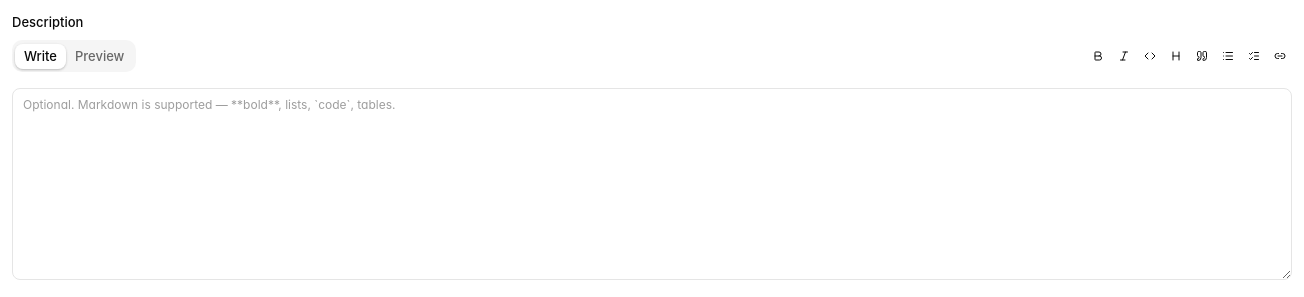
Test: MarkdownField preview › says so when there is nothing to preview, rather than showing an empty box
Press the mouse on the tab "Preview" at (100, 56), box [66,44,133,68]
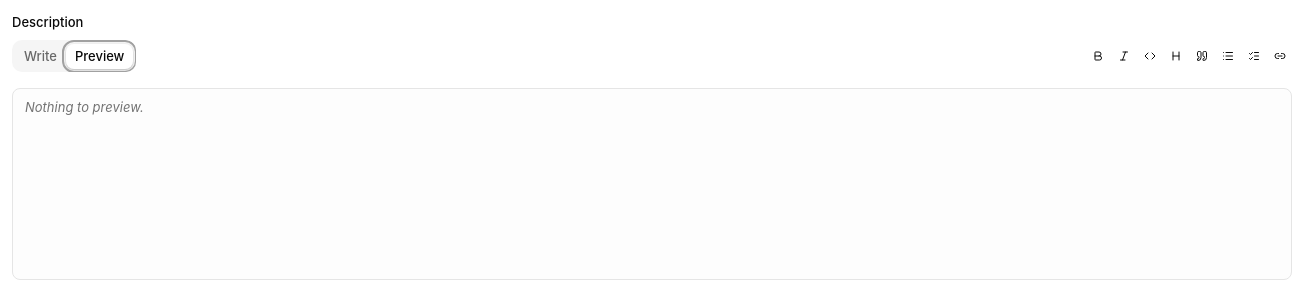
Check: the text "Nothing to preview." is shown, box [25,99,144,115]
